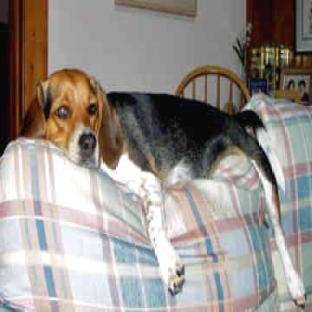Animal: (23, 69, 305, 304)
